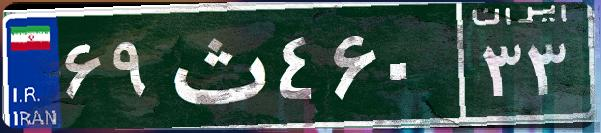0: (385, 28, 445, 110)
3: (475, 38, 525, 113), (525, 38, 570, 115)
4: (273, 28, 330, 110)
6: (330, 28, 385, 110), (57, 26, 110, 107)
9: (110, 28, 158, 105)
ث: (158, 15, 273, 115)
